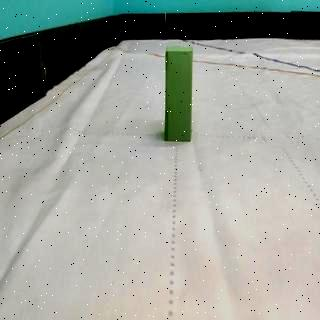greenbox: (162, 46, 195, 142)
